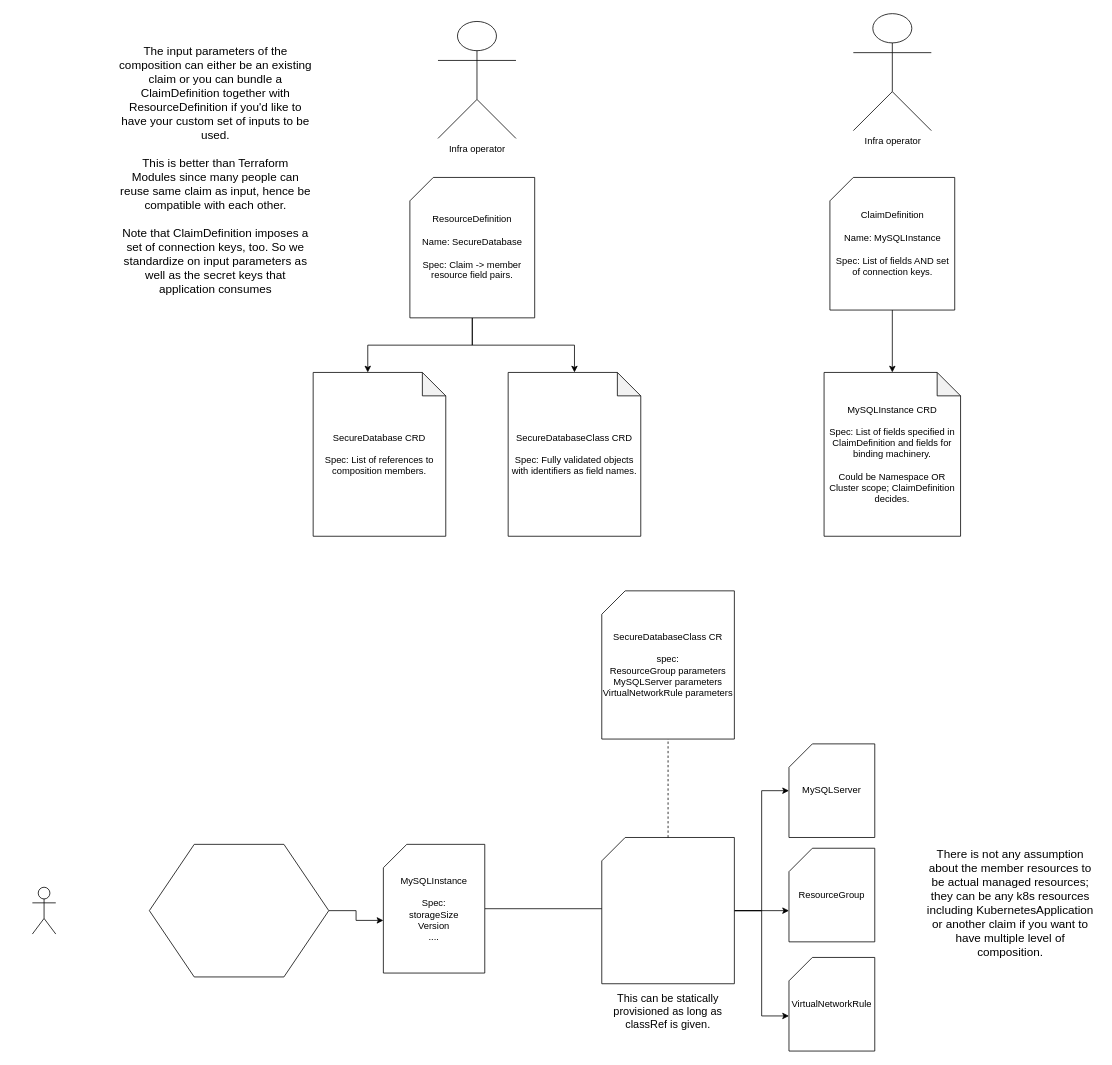
The diagram is 1112 pixels wide and 1065 high, and some of its shapes have lost their labels. Here are the shapes that lost their labels. From the top down, the centre of each, then its label:
At point (44, 910): "App Developer".
At point (239, 910): "Wordpress App Bundle * KubernetesCluster * MySQLInstance *KubernetesApplication".
At point (667, 910): "SecureDatabase Spec: ClassRef and List of members only. NO ACTUAL PARAMETER.".
